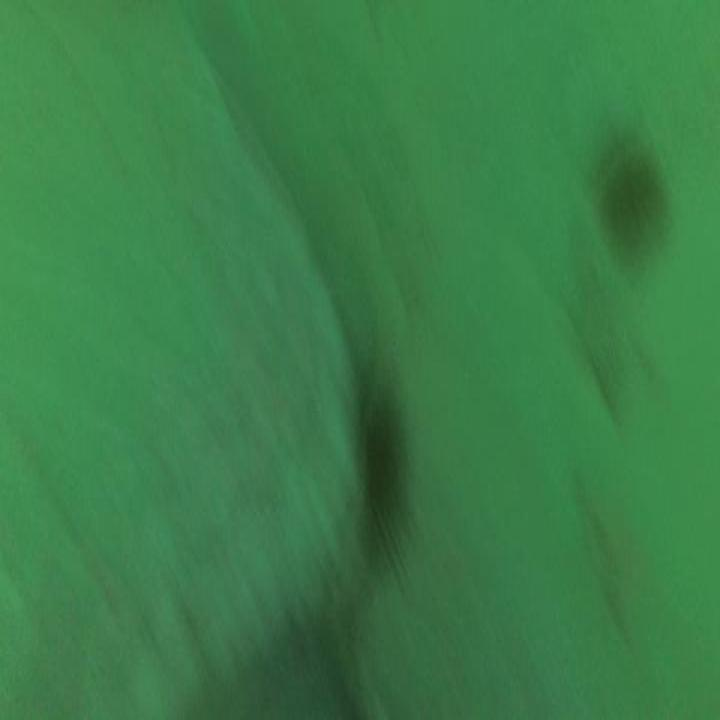echinus: (348, 356, 412, 580), (596, 131, 670, 265)
